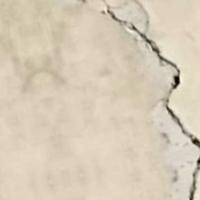crack: (108, 5, 199, 199)
